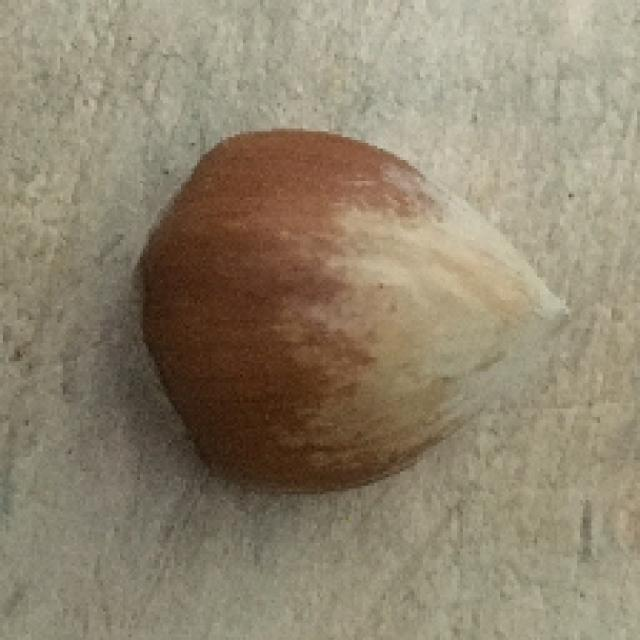QualityHazelnut: (134, 128, 572, 496)
